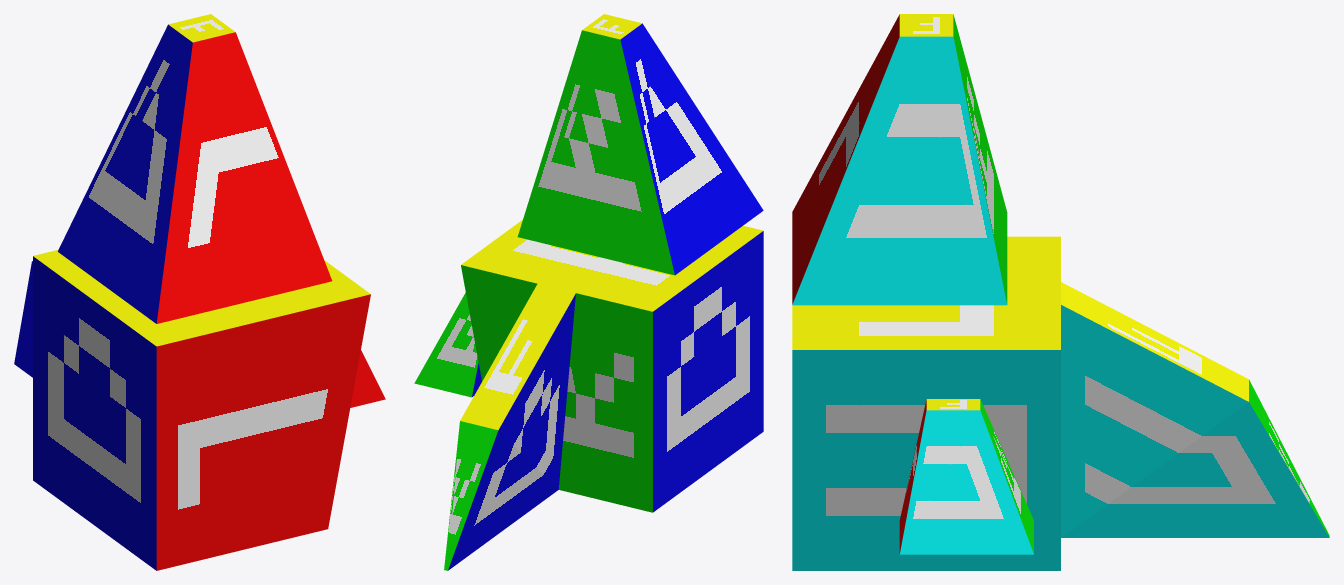
The model's file is thing1+y+x.obj.
3 renders of one model, left to right at view 1: azimuth 30°, elevation 25°; view 2: azimuth 150°, elevation 25°; view 3: azimuth 270°, elevation 25°, orthographic. The views are drawn at different scales.
Parts seen in each view (by area): view 1: Cube; view 2: Cube; view 3: Cube.
Boxes of the visible parts, x1,y1,x2,y2 form: Cube: (14,14,385,570); Cube: (414,14,763,570); Cube: (792,14,1329,570).
Bounding box in the file's own units: 0.65 × 1.05 × 1.
1 material, 1 textured.
